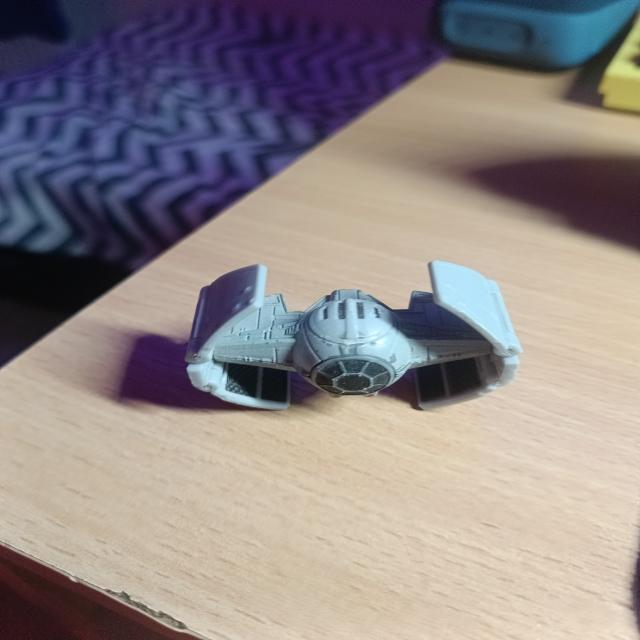tie fighter: (185, 261, 522, 409)
